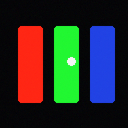0 point: (67, 57, 75, 65)
